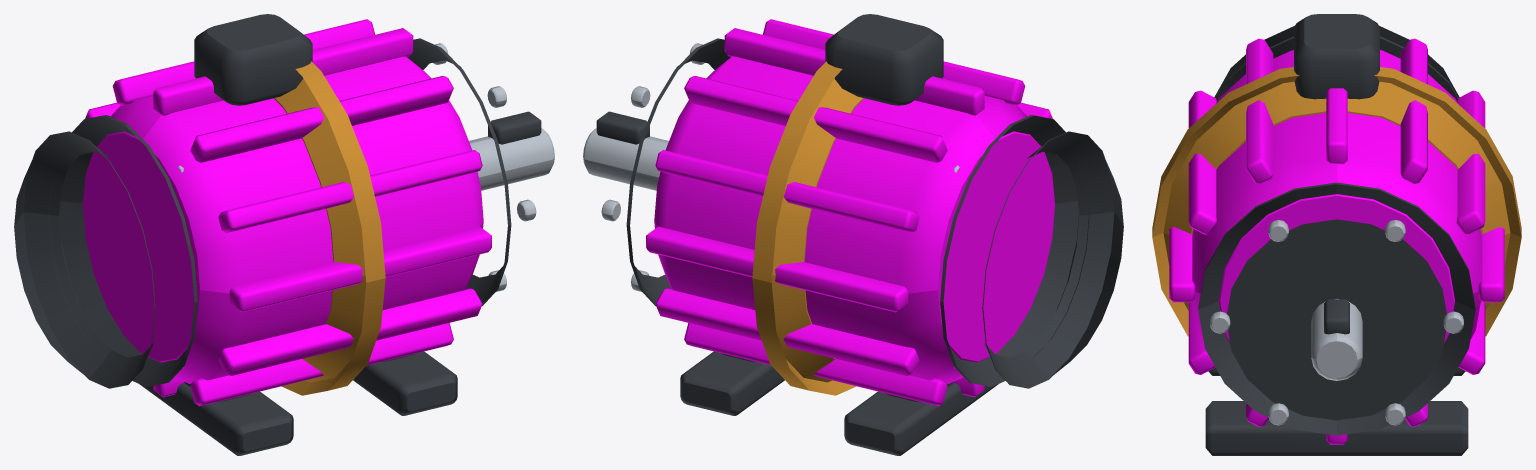
The model's file is objet_moteur_renforce.glb.
The picture shows the model from 3 angles, left to right: view 1: azimuth 30°, elevation 25°; view 2: azimuth 150°, elevation 25°; view 3: azimuth 270°, elevation 25°; orthographic projection.
Visible parts, largest first — view 1: moteur_teinte.004, moteur_teinte_sombre.004, moteur_orange.002, moteur_gris_clair.004; view 2: moteur_teinte.004, moteur_teinte_sombre.004, moteur_orange.002, moteur_gris_clair.004; view 3: moteur_teinte_sombre.004, moteur_teinte.004, moteur_orange.002, moteur_gris_clair.004.
Part boxes in pixels (x1,y1,x2,y2): moteur_teinte.004: (83,19,491,406); moteur_teinte_sombre.004: (14,14,541,455); moteur_orange.002: (274,61,385,395); moteur_gris_clair.004: (178,43,554,368); moteur_teinte.004: (646,19,1054,406); moteur_teinte_sombre.004: (596,14,1123,455); moteur_orange.002: (752,61,863,395); moteur_gris_clair.004: (583,43,959,368); moteur_teinte_sombre.004: (1198,14,1475,455); moteur_teinte.004: (1169,38,1504,444); moteur_orange.002: (1152,67,1521,336); moteur_gris_clair.004: (1210,220,1463,425).
Bounding box in the file's own units: 0.32 × 0.23 × 0.215.
